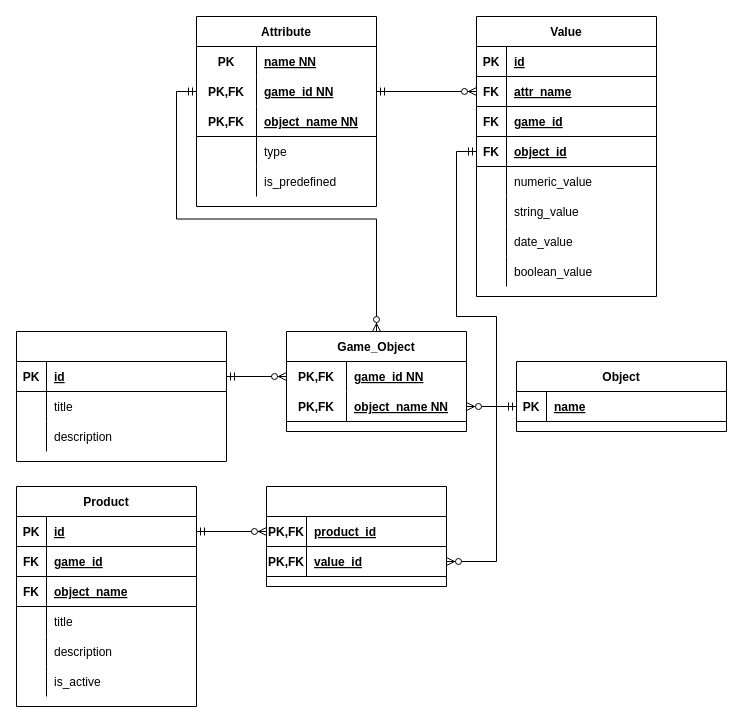
Some shapes in this 743 by 723 pixel diagram are drawn without their labels. Here are the shapes that lost their labels. From the top down, the box of each, then its label:
(16, 330, 226, 462): Game
(266, 486, 446, 586): Product_Value
